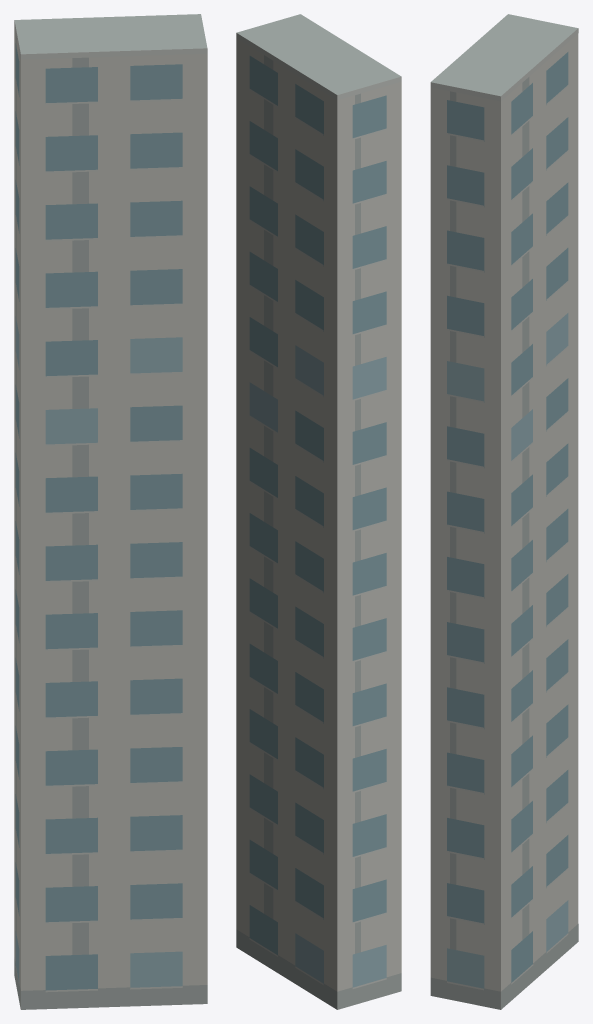
Rendered from survey-upis-32553776.glb.
3 renders of one model, left to right at view 1: azimuth 30°, elevation 25°; view 2: azimuth 150°, elevation 25°; view 3: azimuth 270°, elevation 25°, orthographic. The views are drawn at different scales.
Parts seen in each view (by area): view 1: survey-upis-32553776.tmp; view 2: survey-upis-32553776.tmp; view 3: survey-upis-32553776.tmp.
Boxes of the visible parts, bbox=[...] form: survey-upis-32553776.tmp: bbox=[14, 14, 207, 1009]; survey-upis-32553776.tmp: bbox=[236, 14, 401, 1009]; survey-upis-32553776.tmp: bbox=[430, 14, 578, 1009].
Size of the model in its own units: 8.26 by 42.7 by 6.27.
